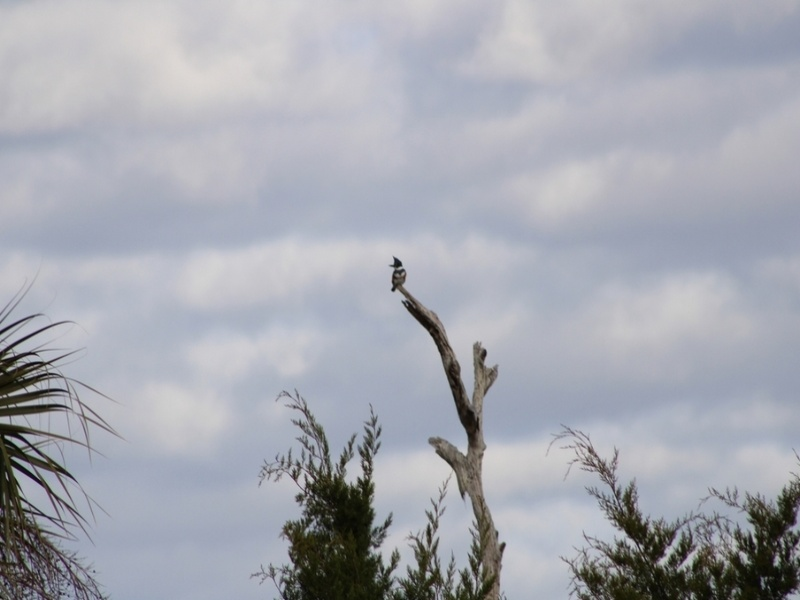kingfisher: (387, 252, 407, 294)
